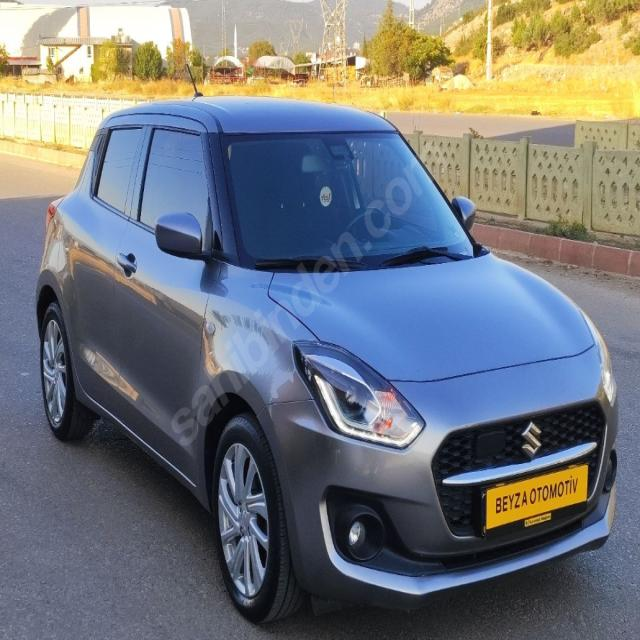suzuki: (519, 417, 545, 462)
